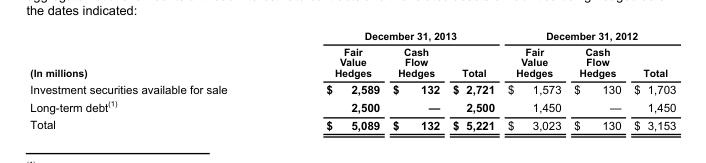table: (29, 29, 675, 131)
table column: (29, 29, 276, 131), (276, 29, 385, 131), (500, 29, 566, 131), (385, 29, 445, 131), (566, 29, 626, 131), (445, 29, 500, 131), (626, 29, 675, 131)
table column header: (29, 29, 675, 80)
table row: (29, 43, 675, 80), (29, 97, 675, 115), (29, 80, 675, 97), (29, 115, 675, 131), (29, 29, 675, 43)
table spanning cell: (29, 29, 276, 80), (276, 29, 500, 43), (500, 29, 675, 43)
